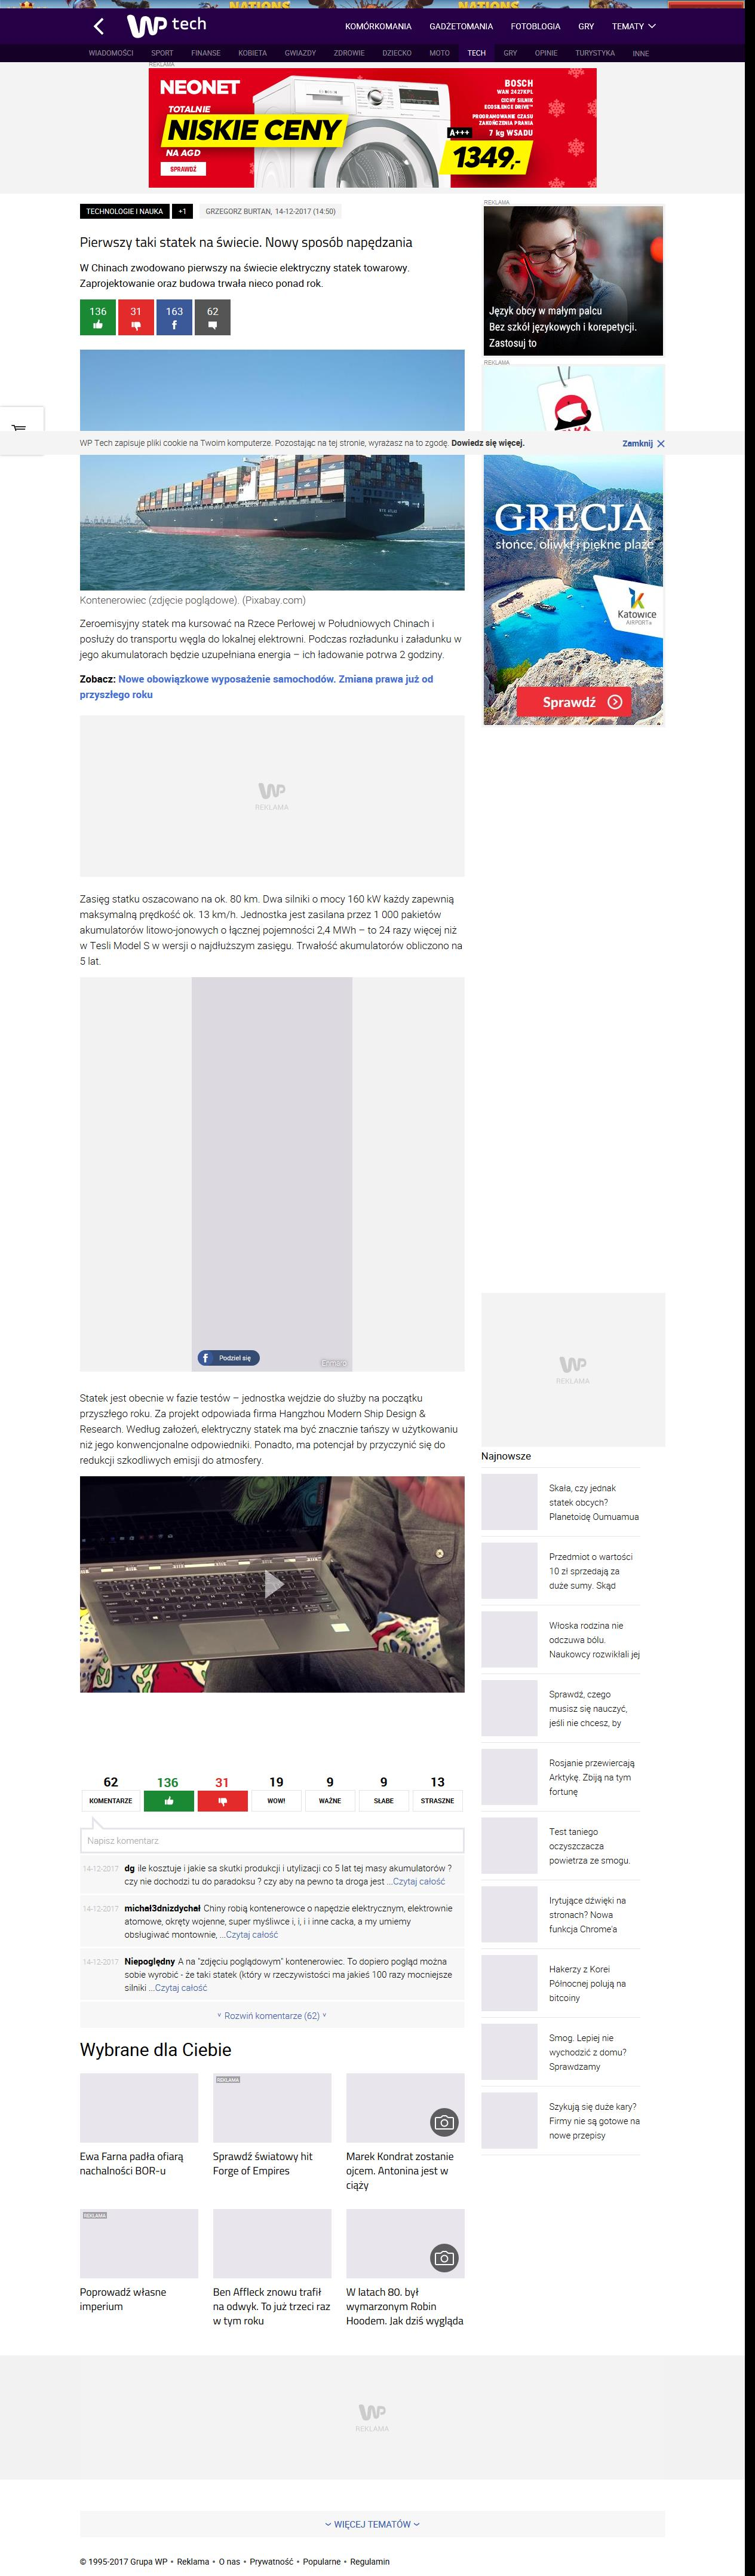title: (79, 235, 414, 251)
